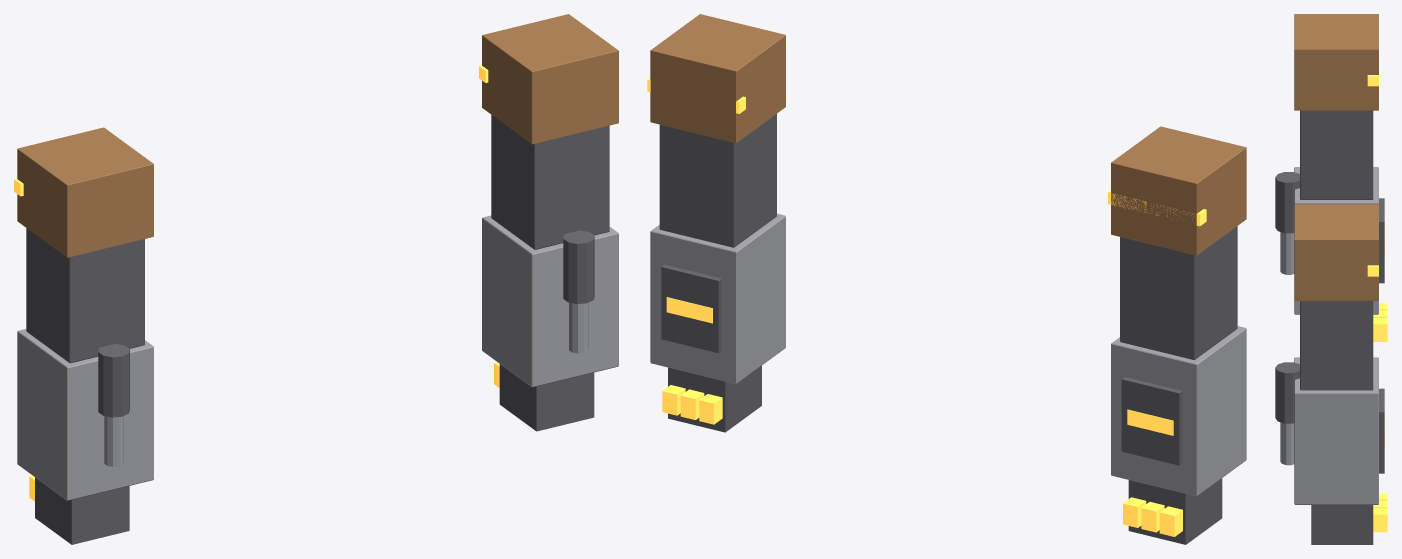
Rendered from arms-bruiser3.glb.
3 renders of one model, left to right at view 1: azimuth 30°, elevation 25°; view 2: azimuth 150°, elevation 25°; view 3: azimuth 270°, elevation 25°, orthographic. The views are drawn at different scales.
Parts seen in each view (by area): view 1: fore_l, fore_r, delt_r, delt_l, upper_r, upper_l, fist_l, fist_r, sleeve_l, sleeve_r, rod_l, rod_r; view 2: fore_l, fore_r, delt_r, delt_l, upper_l, upper_r, forevent_r, forevent_l, fist_r, fist_l, foreglow_r, foreglow_l; view 3: fore_l, delt_l, delt_r, upper_l, upper_r, fist_l, sleeve_l, sleeve_r, fore_r, rod_l, rod_r, forevent_l (+3 smaller).
Part boxes in pixels (left/top/right/bottom): fore_l: left=482, top=215, right=618, bottom=387; fore_r: left=17, top=329, right=153, bottom=500; delt_r: left=17, top=127, right=153, bottom=257; delt_l: left=482, top=14, right=618, bottom=144; upper_r: left=26, top=228, right=144, bottom=363; upper_l: left=491, top=115, right=609, bottom=249; fist_l: left=499, top=364, right=594, bottom=431; fist_r: left=35, top=477, right=129, bottom=544; sleeve_l: left=563, top=230, right=594, bottom=303; sleeve_r: left=98, top=344, right=129, bottom=417; rod_l: left=569, top=302, right=588, bottom=353; rod_r: left=104, top=416, right=123, bottom=466; fore_l: left=650, top=213, right=785, bottom=383; fore_r: left=1111, top=326, right=1246, bottom=496; delt_r: left=1111, top=126, right=1246, bottom=255; delt_l: left=650, top=14, right=785, bottom=143; upper_l: left=659, top=114, right=776, bottom=247; upper_r: left=1120, top=226, right=1237, bottom=360; forevent_r: left=1121, top=377, right=1182, bottom=465; forevent_l: left=661, top=264, right=721, bottom=353; fist_r: left=1128, top=478, right=1222, bottom=544; fist_l: left=668, top=365, right=761, bottom=432; foreglow_r: left=1127, top=409, right=1173, bottom=435; foreglow_l: left=666, top=297, right=712, bottom=323; fore_l: left=1294, top=357, right=1378, bottom=504; delt_l: left=1294, top=204, right=1378, bottom=300; delt_r: left=1294, top=14, right=1378, bottom=110; upper_l: left=1300, top=301, right=1373, bottom=390; upper_r: left=1300, top=110, right=1373, bottom=199; fist_l: left=1311, top=505, right=1373, bottom=544; sleeve_l: left=1275, top=362, right=1299, bottom=423; sleeve_r: left=1275, top=172, right=1299, bottom=233; fore_r: left=1294, top=167, right=1378, bottom=314; rod_l: left=1280, top=422, right=1294, bottom=465; rod_r: left=1280, top=232, right=1294, bottom=274; forevent_l: left=1379, top=388, right=1384, bottom=473.
Size of the model in its own units: 0.96 by 0.61 by 0.1995.
